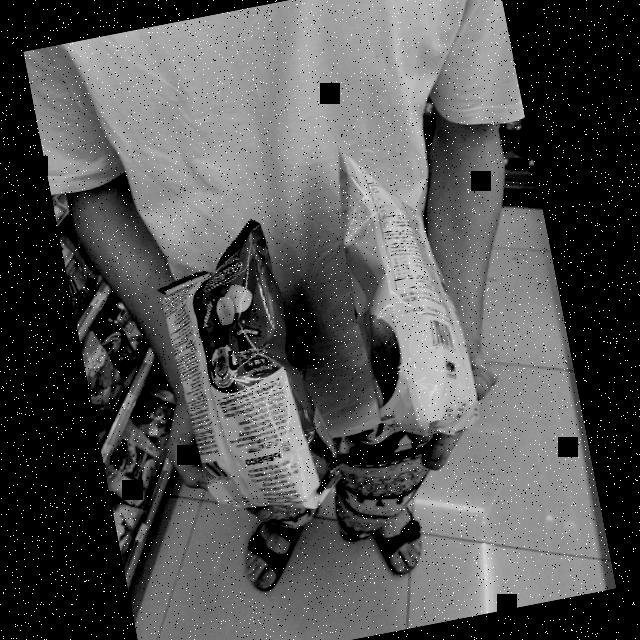snack_bag: (132, 208, 356, 539), (303, 130, 500, 457)
